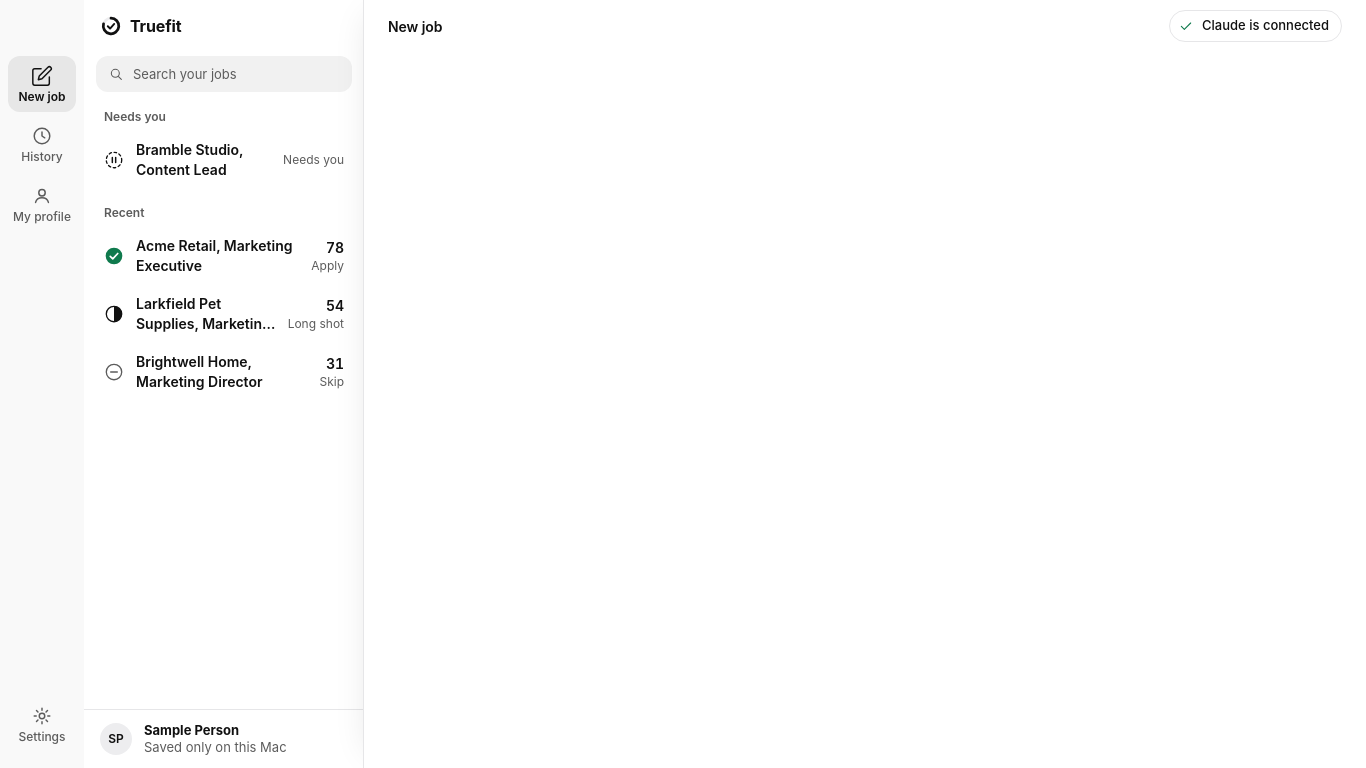
Test case: New job and the Job screen › a job that breaks one of the user's own rules says so, recommends skipping, and still leaves the decision to the user
The width and height of the screenshot is (1366, 768).
Click the button "Brightwell Home, Marketing Director 31 Skip" at (224, 372), box [96,344,352,400]
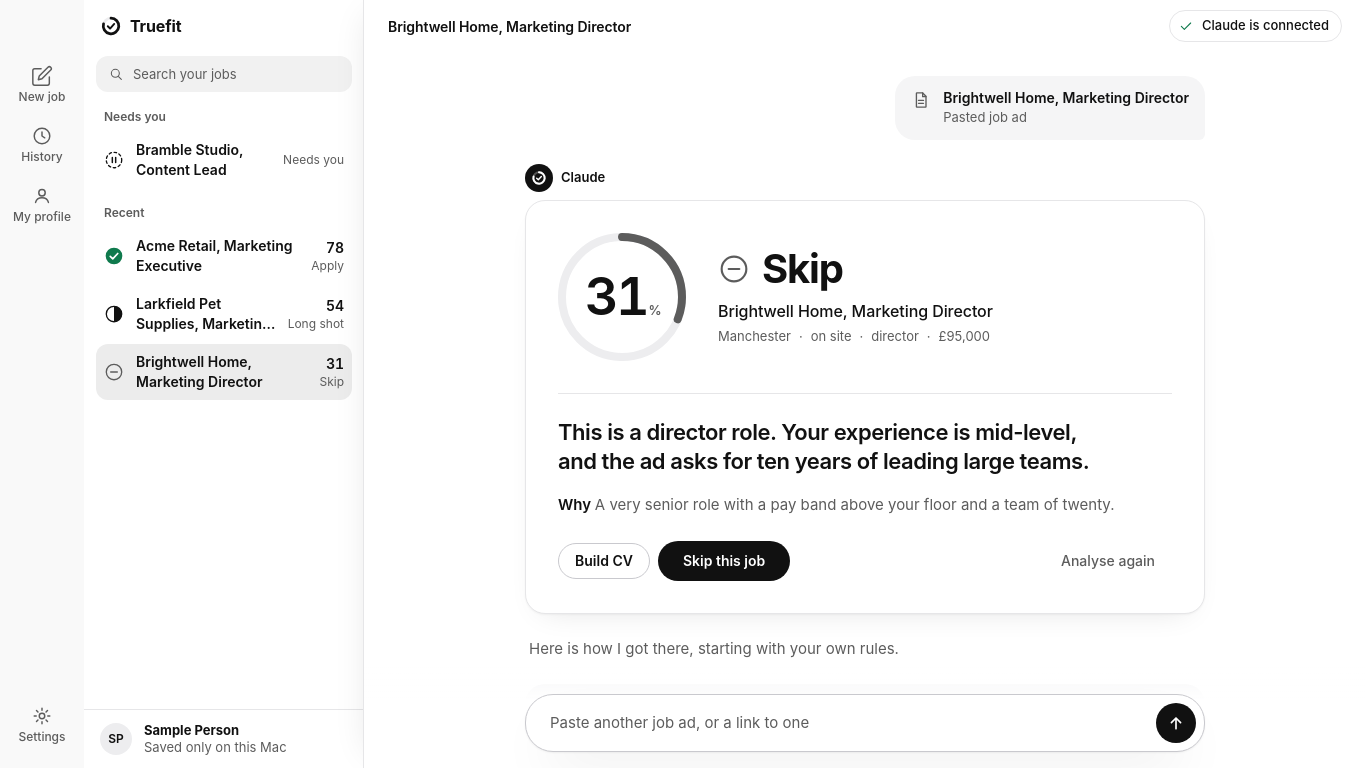
Now the element with test id "verdict" is shown, box [525,200,1205,614]
Now the heading "This job breaks one of your own rules" is shown, box [577,700,899,722]
Now the text "Skipping is recommended, but it's your decision." is shown, box [577,730,899,752]
